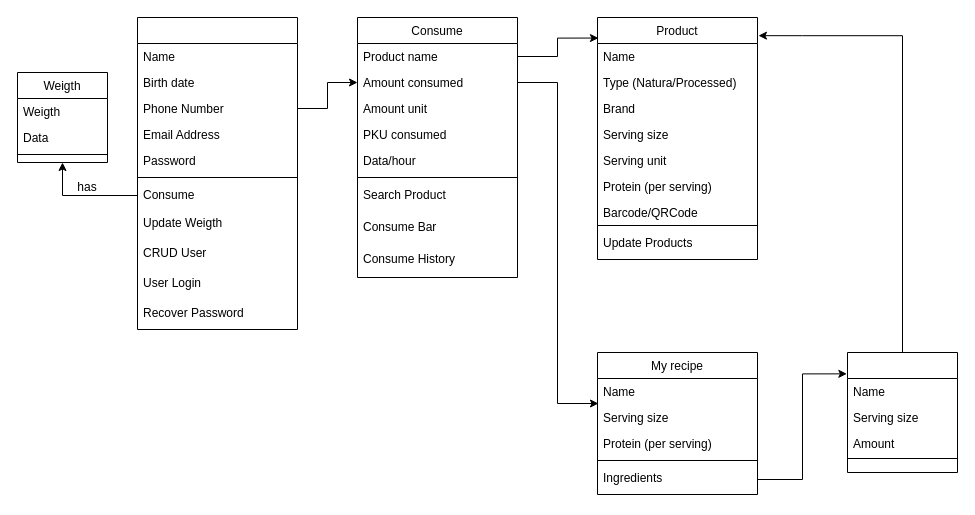
Some shapes in this 975 by 515 pixel diagram are drawn without their labels. The shapes that lost their labels are listed below. From the top down, each one's box as (x1, y1, x2, y2) in pixels, then its label:
(136, 16, 298, 330): Person
(846, 352, 958, 472): Ingredient
